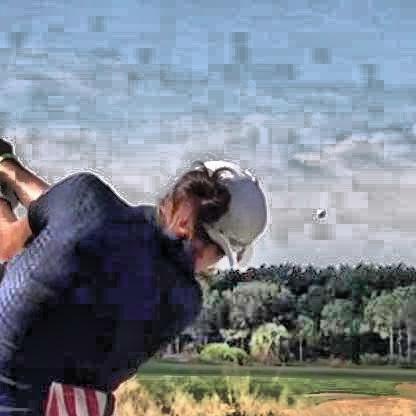golfball: (314, 206, 323, 216)
